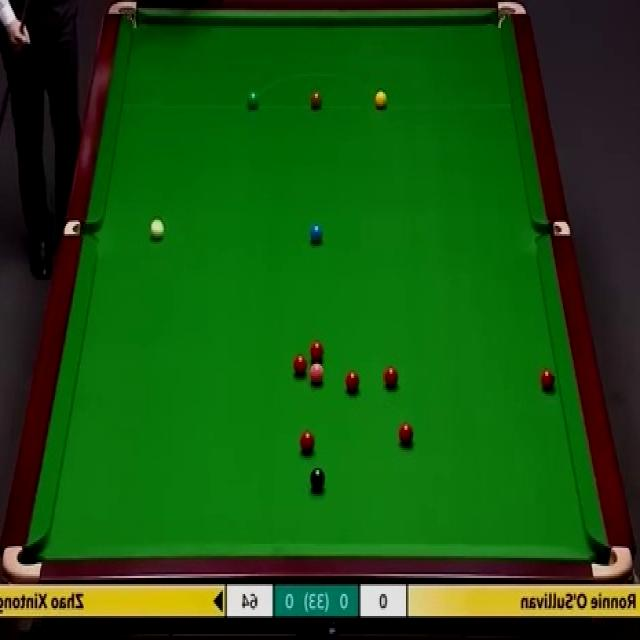black-ball: (309, 468, 326, 493)
blue-ball: (310, 224, 325, 246)
brown-ball: (310, 90, 323, 110)
green-ball: (246, 92, 259, 110)
pink-ball: (308, 362, 324, 388)
red-ball: (538, 366, 555, 393), (298, 432, 315, 456), (345, 369, 361, 393), (398, 424, 414, 446), (293, 354, 308, 376), (384, 365, 397, 387), (310, 339, 322, 362)
white-ball: (148, 218, 164, 243)
yellow-ball: (375, 90, 388, 110)
